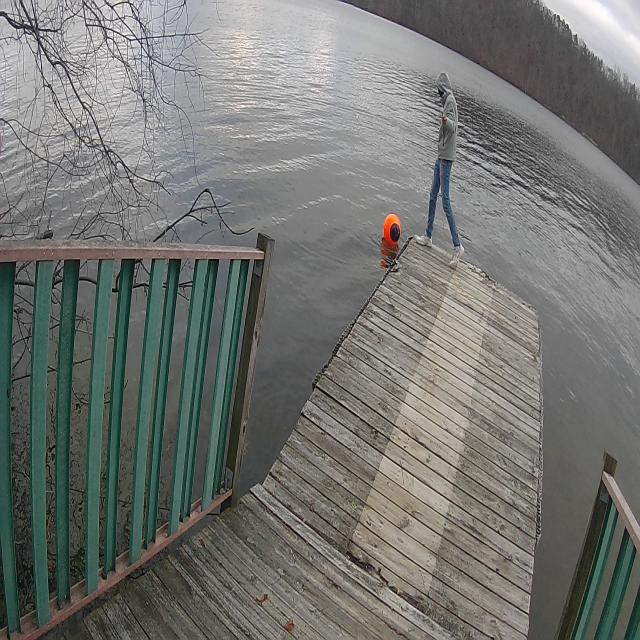Buoy: (380, 205, 404, 255)
